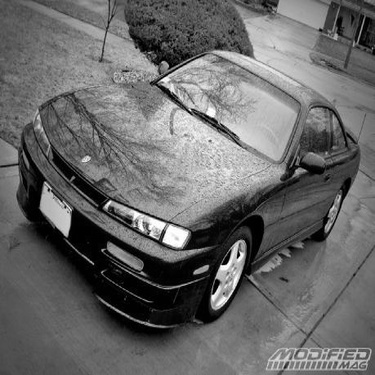car: (29, 47, 368, 317)
